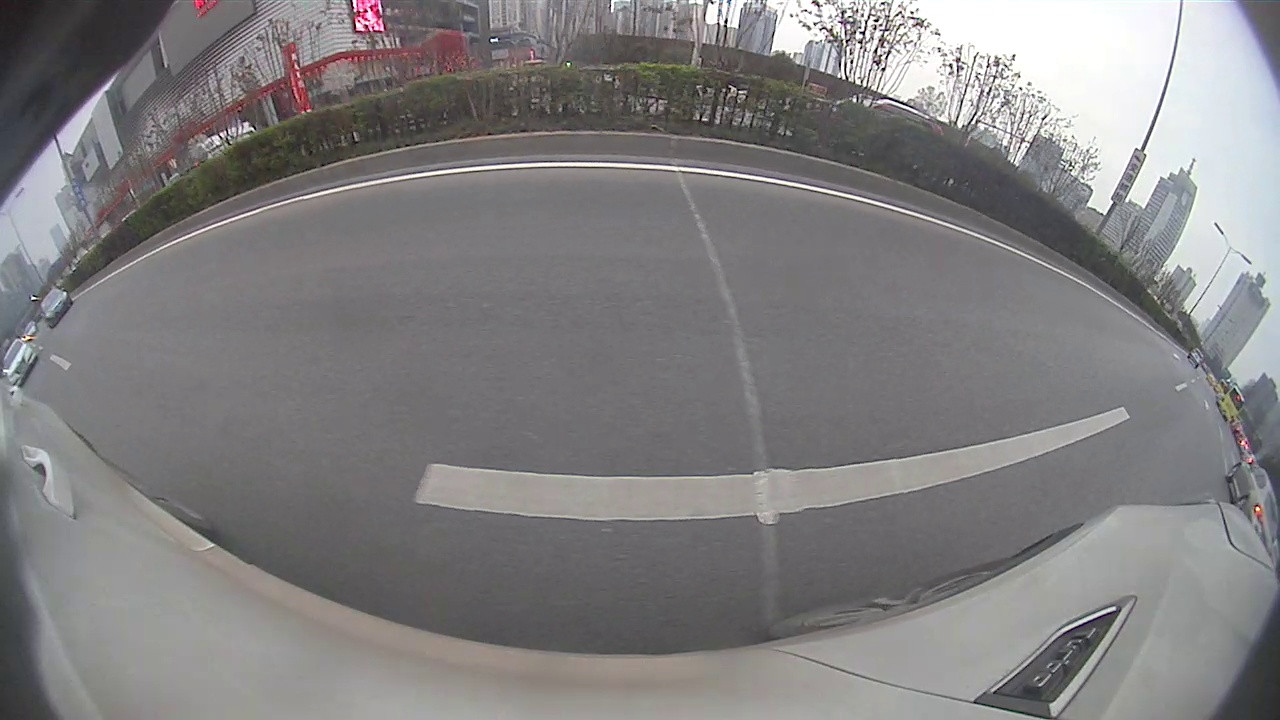car: (1224, 459, 1277, 548), (2, 338, 37, 387), (40, 289, 74, 326)
